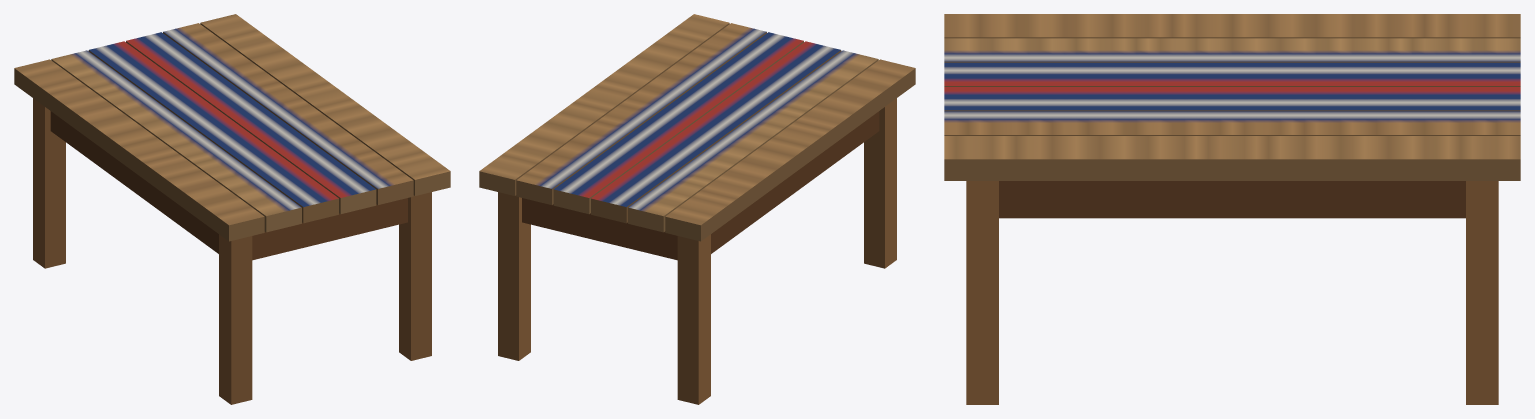
File: Hut_Table.fbx
The picture shows the model from 3 angles, left to right: view 1: azimuth 30°, elevation 25°; view 2: azimuth 150°, elevation 25°; view 3: azimuth 270°, elevation 25°; orthographic projection. The views are drawn at different scales.
Parts seen in each view (by area): view 1: Hut_Table; view 2: Hut_Table; view 3: Hut_Table.
Boxes of the visible parts, x1=… form: Hut_Table: x1=14, y1=14, x2=450, y2=404; Hut_Table: x1=479, y1=14, x2=915, y2=404; Hut_Table: x1=944, y1=14, x2=1520, y2=404.
Bounding box in the file's own units: 35.75 × 29 × 60.
